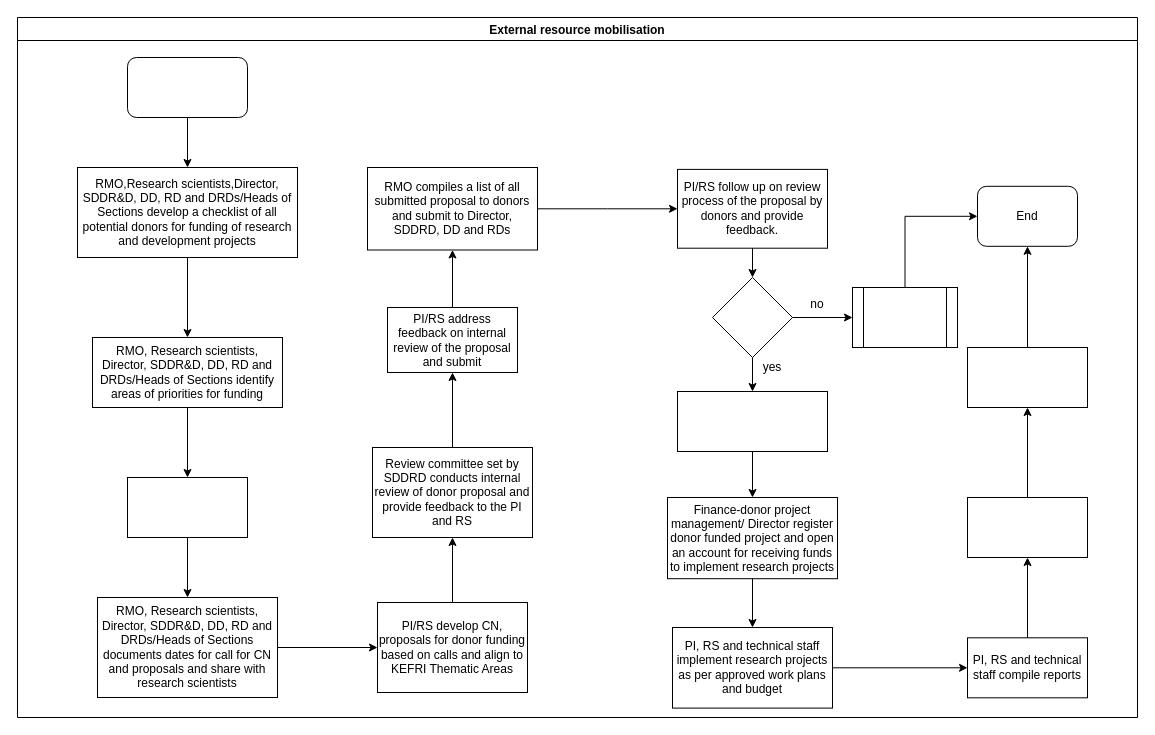
Some shapes in this 1155 by 735 pixel diagram are drawn without their labels. Each missing label, with the box of its shape:
Approved?: (712, 276, 792, 358)
Notify SDDRD/ PI/RS: (852, 286, 958, 348)
PI, RS, KM, ICT produce and disseminate knowledge products: (966, 496, 1088, 558)
PI/RS develop workplan, PIP, budget and submit to SDDRD throughRD and RD: (676, 390, 828, 452)
RMO develops and updates donor funding trend: (966, 346, 1088, 408)
RMO develops KEFRI profile for donor: (126, 476, 248, 538)
Start: (126, 56, 248, 118)
